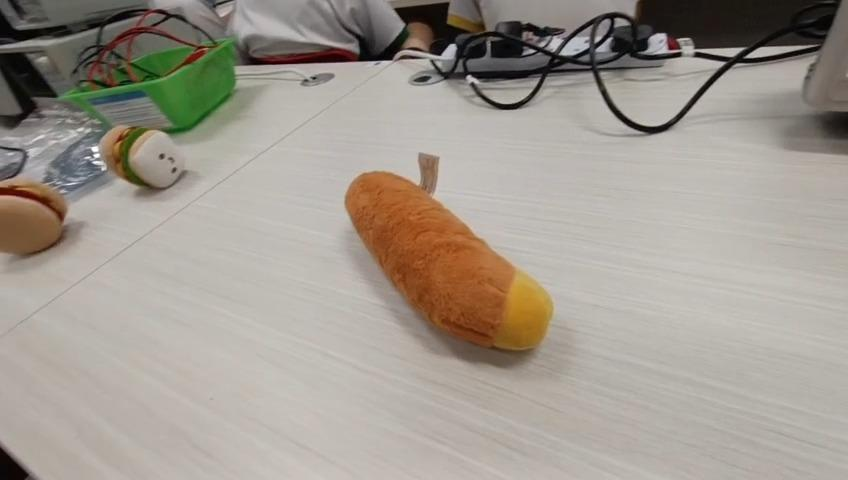hotdog: (343, 165, 554, 352), (0, 178, 68, 256)
